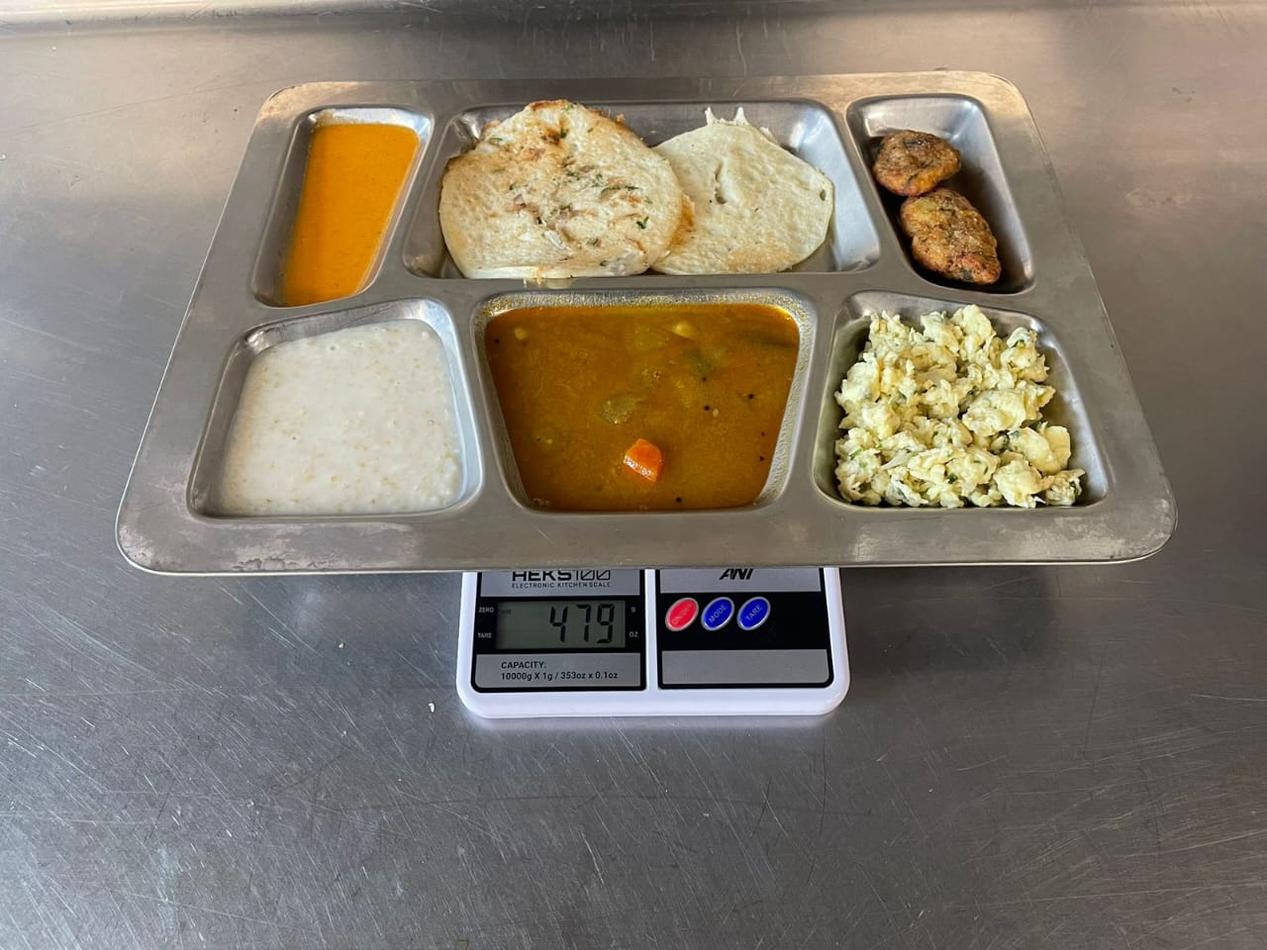bowl: (449, 285, 815, 564), (411, 82, 855, 297), (827, 286, 1097, 543), (189, 314, 482, 540), (841, 90, 1040, 299), (256, 97, 425, 305)
